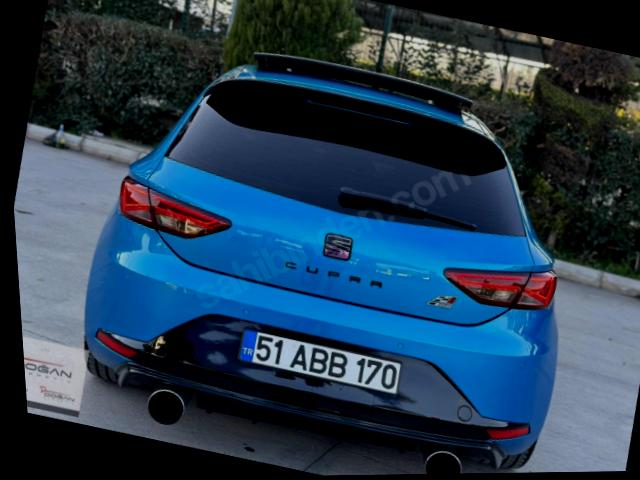plaka: (239, 329, 401, 393)
